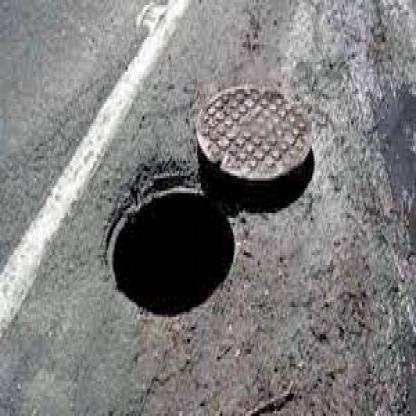manholes: (70, 40, 328, 359)
